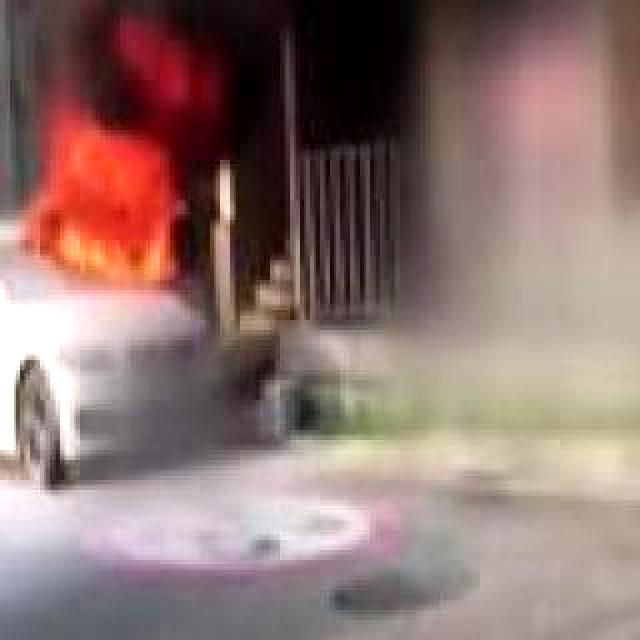fire: (24, 112, 200, 290)
